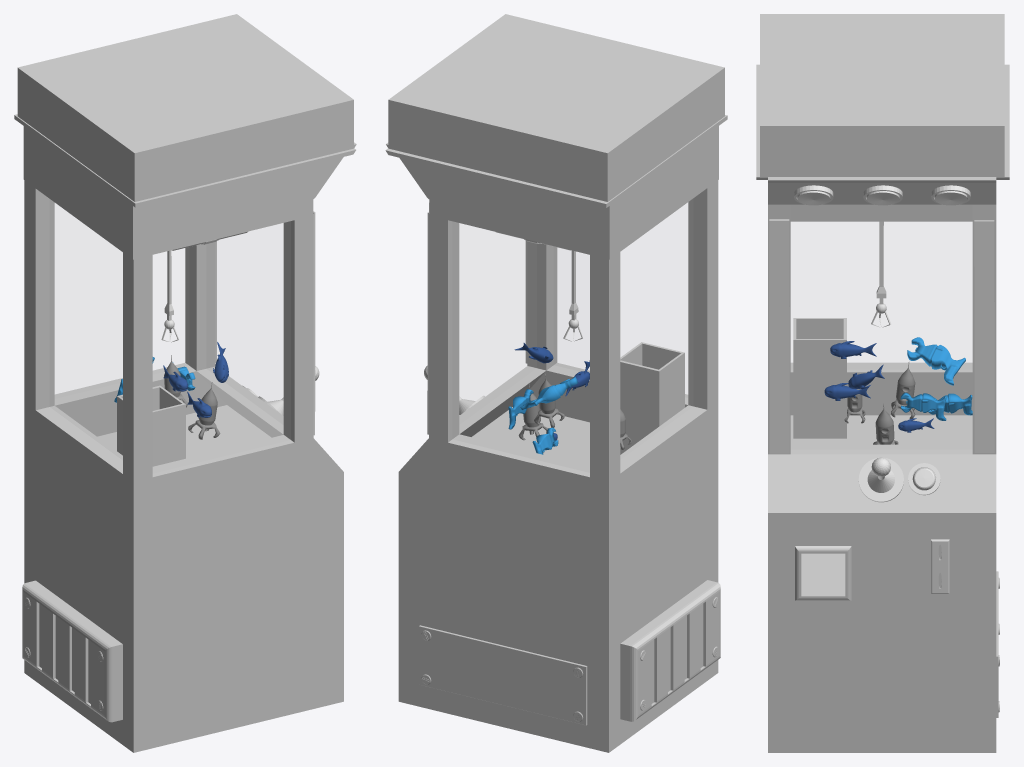
The model's file is automat.fbx.
The picture shows the model from 3 angles, left to right: view 1: azimuth 30°, elevation 25°; view 2: azimuth 150°, elevation 25°; view 3: azimuth 270°, elevation 25°; orthographic projection. The views are drawn at different scales.
Parts seen in each view (by area): view 1: Automat_low, Neon_low, Kruk_low, toy03_low; view 2: Automat_low, Neon_low, Kruk_low, toy01_low; view 3: Automat_low, Neon_low, Knopki_low, Lampa_low, toy01_low, toy01_low.001, Kruk_low, toy03_low.001, toy03_low, toy01_low.002, toy02_low.001, toy02_low.
Part boxes in pixels (left/top/right/bottom): Automat_low: left=14, top=14, right=356, bottom=752; Neon_low: left=215, top=211, right=315, bottom=435; Kruk_low: left=161, top=231, right=247, bottom=342; toy03_low: left=188, top=382, right=220, bottom=439; Automat_low: left=385, top=14, right=727, bottom=752; Neon_low: left=427, top=212, right=527, bottom=434; Kruk_low: left=496, top=232, right=582, bottom=341; toy01_low: left=520, top=376, right=578, bottom=409; Automat_low: left=756, top=14, right=1009, bottom=752; Neon_low: left=769, top=219, right=994, bottom=453; Knopki_low: left=858, top=457, right=949, bottom=593; Lampa_low: left=794, top=185, right=970, bottom=205; toy01_low: left=907, top=337, right=965, bottom=385; toy01_low.001: left=900, top=392, right=946, bottom=420; Kruk_low: left=871, top=221, right=891, bottom=327; toy03_low.001: left=891, top=362, right=915, bottom=418; toy03_low: left=873, top=403, right=898, bottom=444; toy01_low.002: left=928, top=393, right=972, bottom=415; toy02_low.001: left=830, top=341, right=876, bottom=358; toy02_low: left=824, top=383, right=870, bottom=400.
Size of the model in its own units: 269 by 609 by 222.
